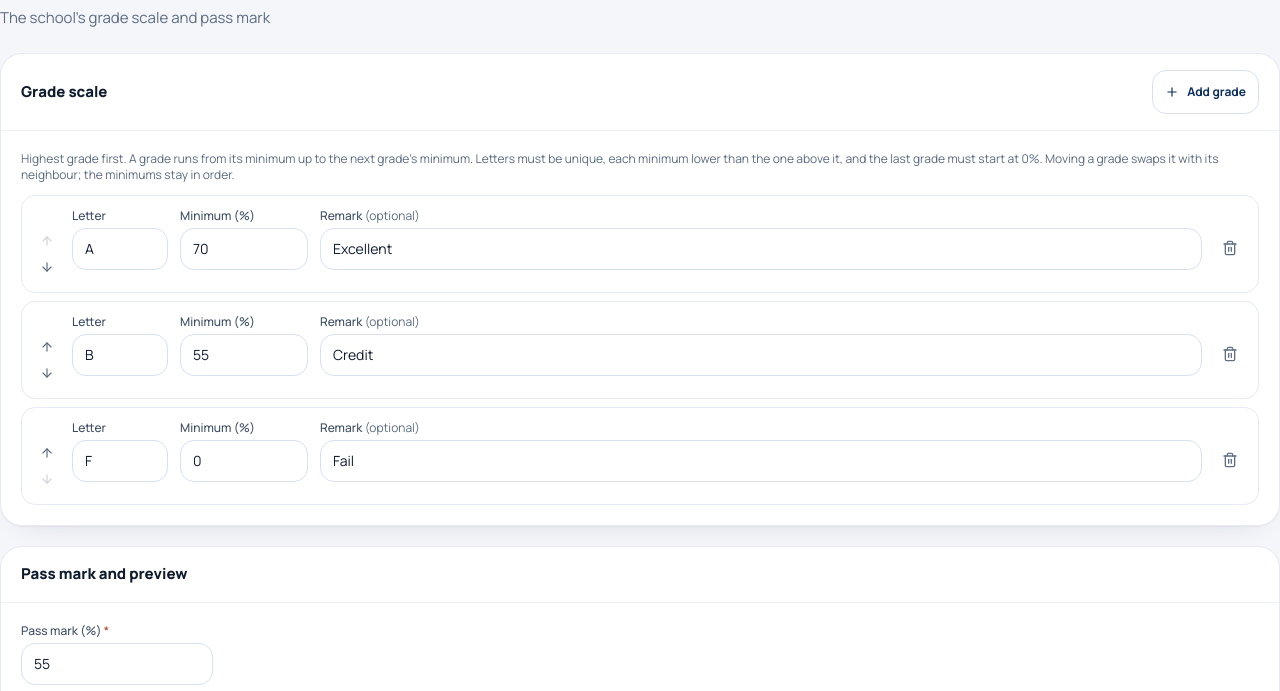
GradingSection › flags a duplicate letter and a last grade above 0
Replace the text in the 2nd field labelled "Letter" with "a". click: (120, 355)
box: [72,334,168,376]
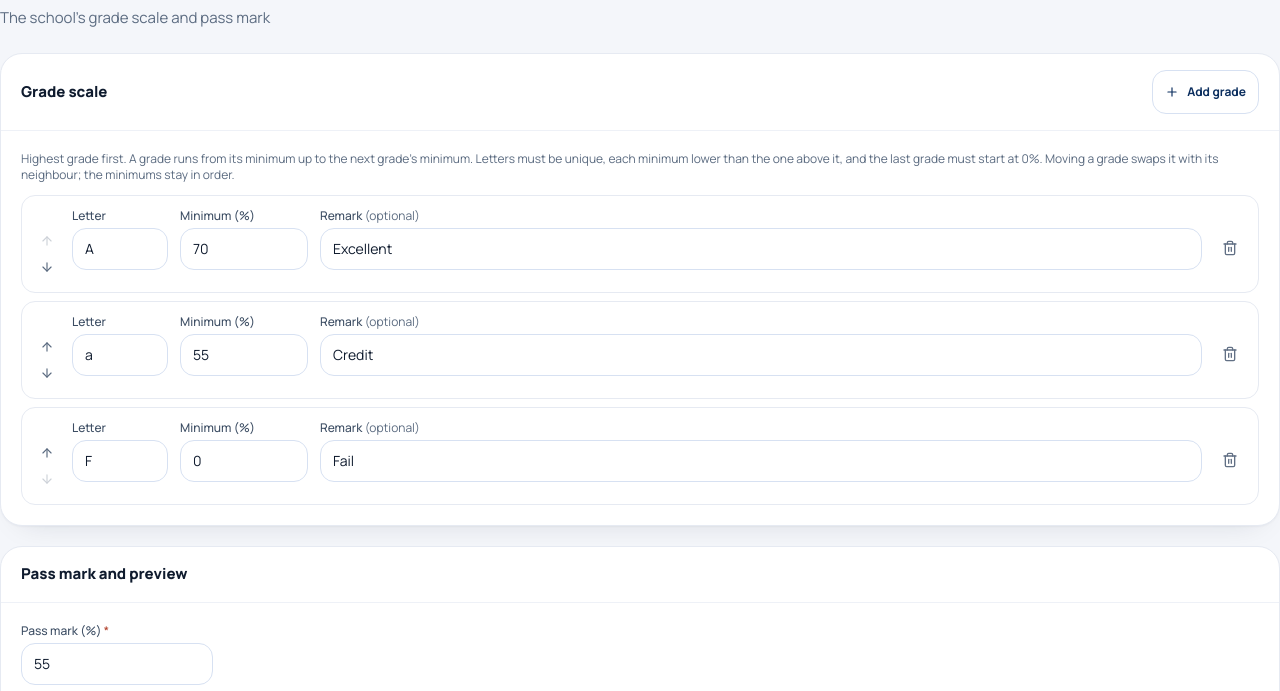
Replace the text in the 3rd number field labelled "Minimum (%)" with "5". click: (244, 461)
box: [180,440,308,482]
(page scrolled)
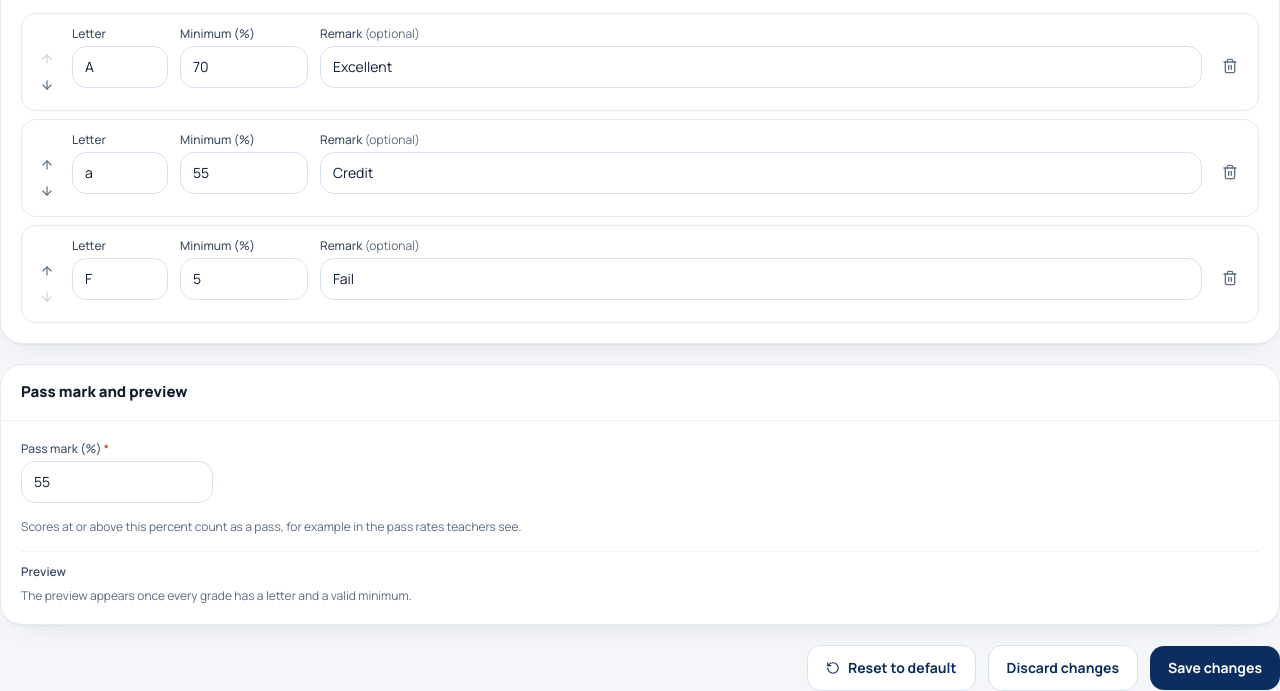
Click the button "Save changes". click: click(1215, 668)
box: [1150,646,1279,690]
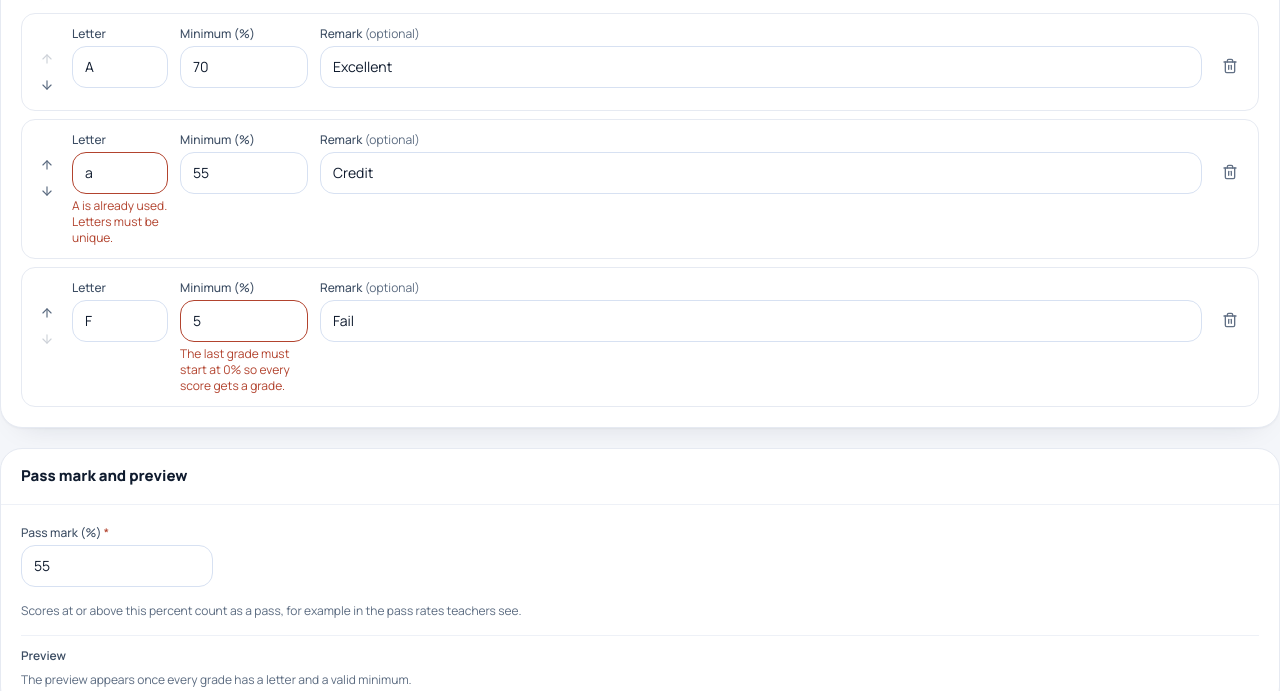
Result: the text "A is already used. Letters must be unique." is shown at [72,198,168,246]
Result: the text "The last grade must start at 0% so every score gets a grade." is shown at [180,346,308,394]
